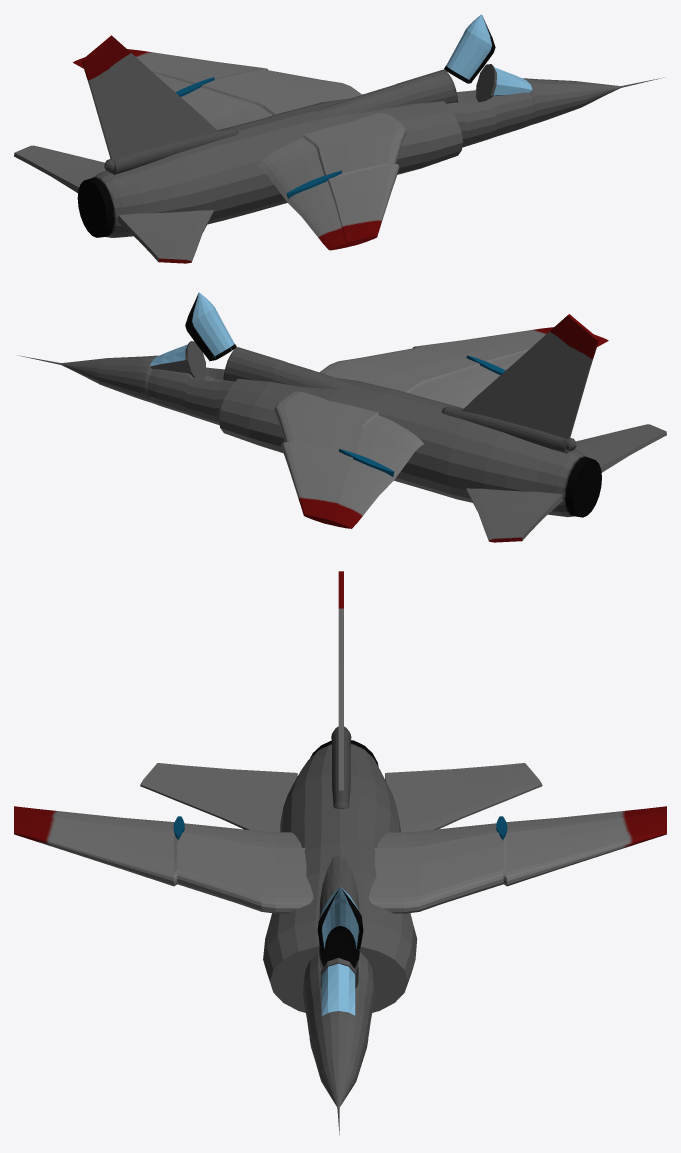
File: Jet-terminado.fbx
3 views of the same model, one above another, from view 1: azimuth 30°, elevation 25°; view 2: azimuth 150°, elevation 25°; view 3: azimuth 270°, elevation 25° (orthographic). The views are drawn at different scales.
Parts seen in each view (by area): view 1: pCylinder10, pCube1, pCube3, pCube2, pCylinder4, pCylinder6, pCylinder3, pCylinder7, pCylinder8, pCube4; view 2: pCylinder10, pCube1, pCube3, pCube2, pCylinder4, pCylinder6, pCylinder3, pCylinder7, pCylinder8, pCube4; view 3: pCube1, pCylinder10, pCube2, pCylinder7, pCylinder6, pCylinder8, pCube3, pCylinder3, pCylinder4.
Part boxes in pixels (x1,y1,x2,y2): pCylinder10: [77, 77, 664, 237]; pCube1: [73, 49, 406, 250]; pCube3: [81, 35, 218, 160]; pCube2: [14, 145, 213, 263]; pCylinder4: [362, 70, 456, 110]; pCylinder6: [444, 14, 495, 83]; pCylinder3: [104, 127, 238, 174]; pCylinder7: [476, 64, 532, 102]; pCylinder8: [316, 69, 457, 113]; pCube4: [175, 77, 341, 198]; pCylinder10: [19, 355, 601, 517]; pCube1: [274, 327, 608, 528]; pCube3: [462, 314, 598, 438]; pCube2: [466, 424, 666, 542]; pCylinder4: [224, 347, 319, 387]; pCylinder6: [185, 292, 236, 361]; pCylinder3: [441, 406, 576, 453]; pCylinder7: [150, 341, 206, 379]; pCylinder8: [223, 347, 366, 390]; pCube4: [339, 355, 505, 476]; pCube1: [14, 806, 666, 913]; pCylinder10: [263, 740, 417, 1134]; pCube2: [140, 763, 542, 832]; pCylinder7: [320, 958, 356, 1015]; pCylinder6: [317, 887, 363, 950]; pCylinder8: [319, 855, 360, 968]; pCube3: [338, 571, 343, 790]; pCylinder3: [331, 726, 351, 809]; pCylinder4: [319, 881, 360, 965].
Bounding box in the file's own units: 20.63 × 6.93 × 15.71.
1 material, 1 textured.
